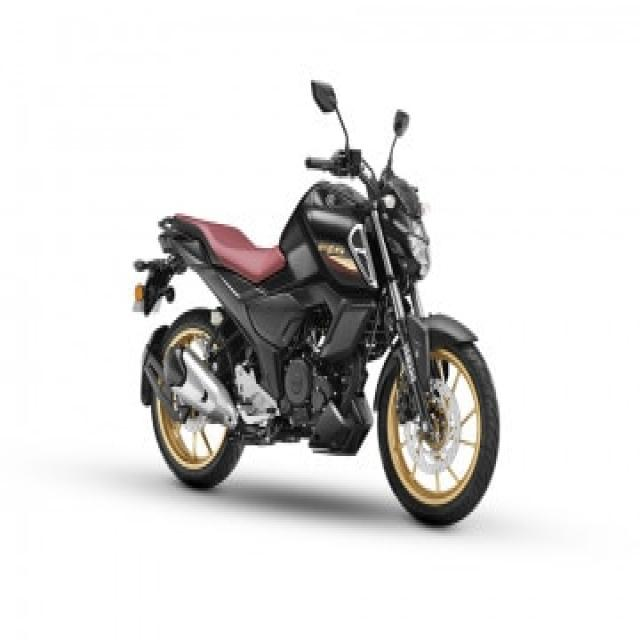MOTORCYCLE: (132, 113, 496, 521)
